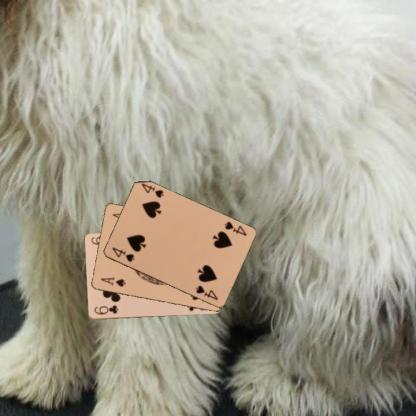4s: (109, 245, 135, 264), (222, 219, 248, 237)
6c: (91, 303, 119, 316)
As: (98, 275, 126, 288)
